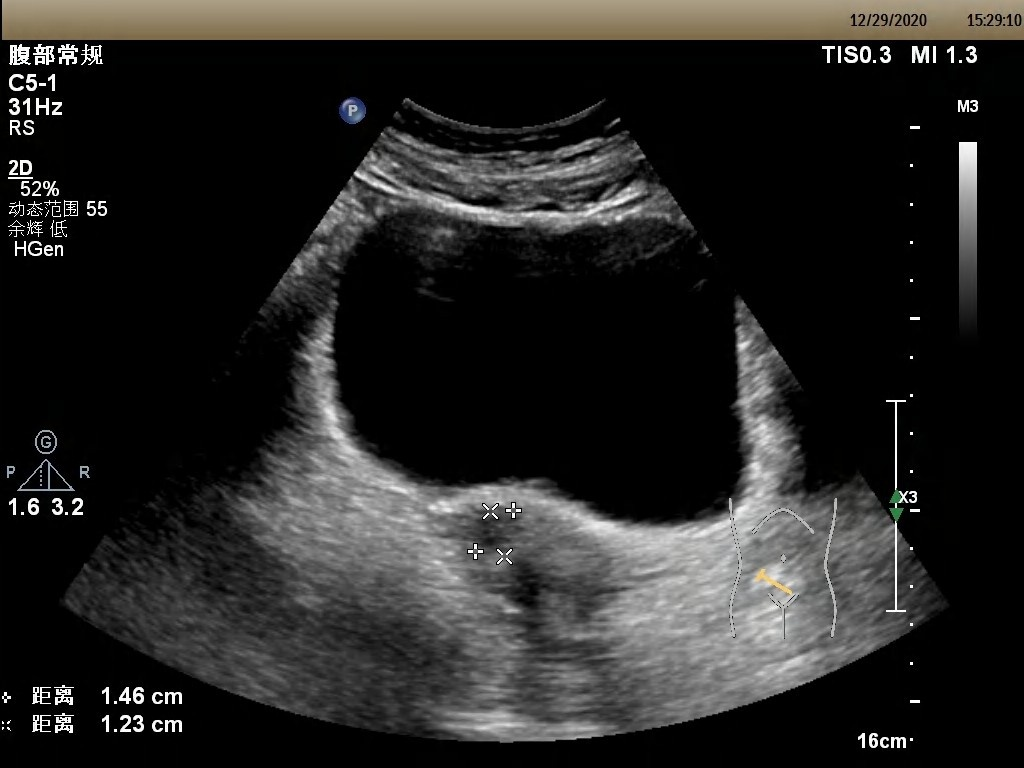肌瘤: (472, 509, 512, 555)
